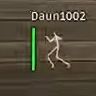hacks_2: (31, 10, 86, 70)
